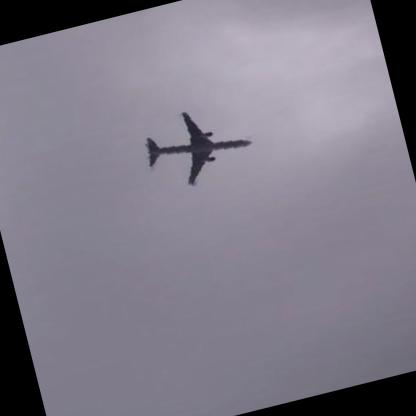plane: (136, 94, 262, 199)
